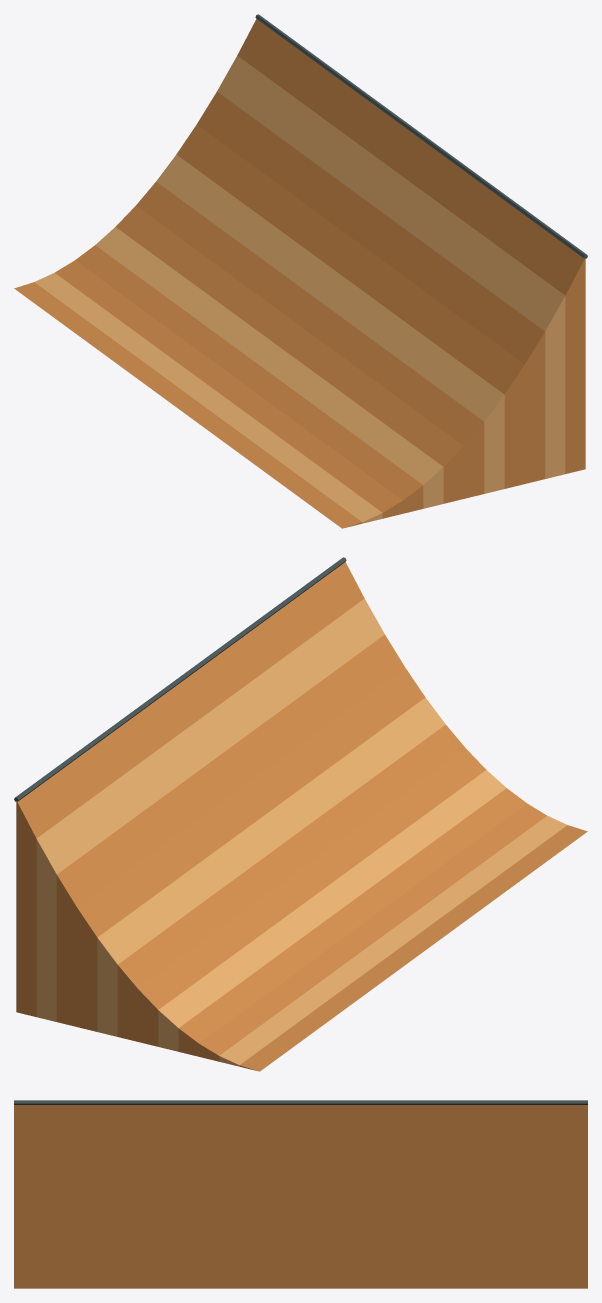
File: wsc-kit-003-hover-quarter-pipe.glb
3 views of the same model, one above another, from view 1: azimuth 30°, elevation 25°; view 2: azimuth 150°, elevation 25°; view 3: azimuth 270°, elevation 25° (orthographic). The views are drawn at different scales.
Visible parts, largest first — view 1: W5a | quarter pipe -122; view 2: W5a | quarter pipe -122; view 3: W5a | quarter pipe -122.
Boxes of the visible parts, x1,y1,x2,y2 form: W5a | quarter pipe -122: (14,14,587,528); W5a | quarter pipe -122: (14,557,587,1071); W5a | quarter pipe -122: (14,1100,587,1288).
Size of the model in its own units: 6.06 by 5.05 by 14.
